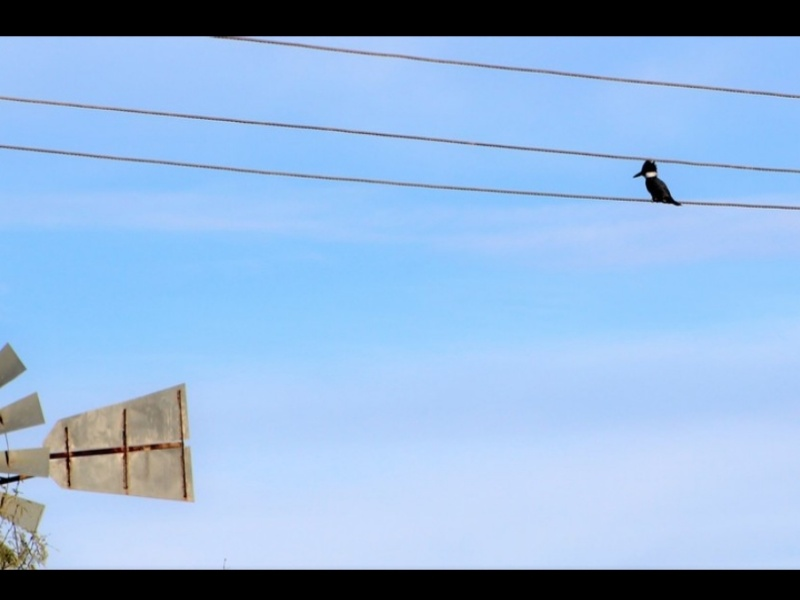kingfisher: (632, 158, 681, 207)
